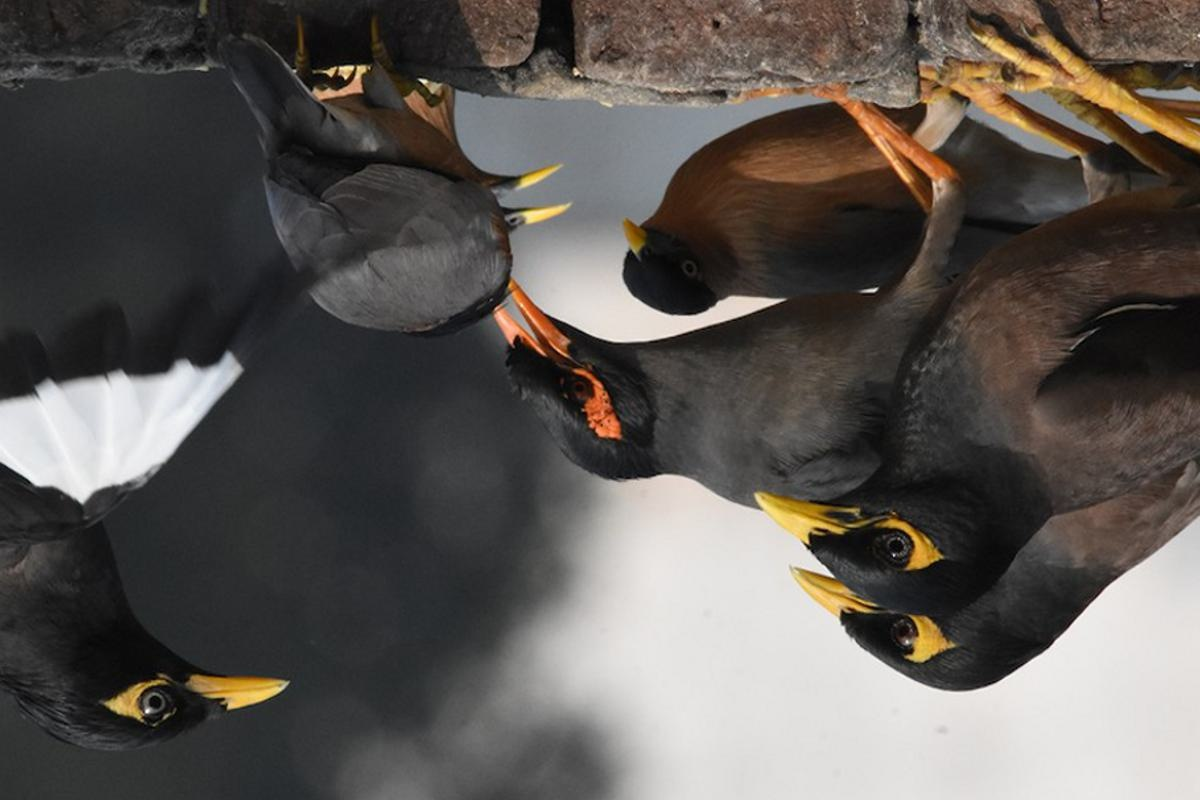myna: (756, 154, 1200, 617), (1, 468, 376, 754)
